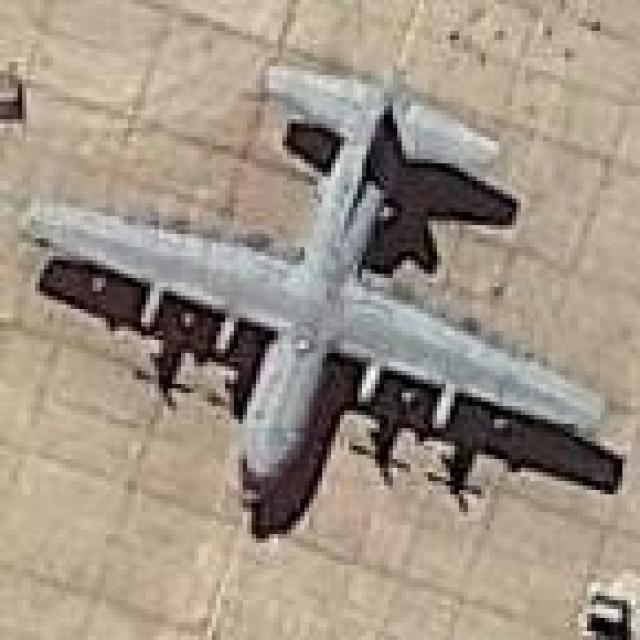C-130_TopDown: (15, 56, 633, 542)
